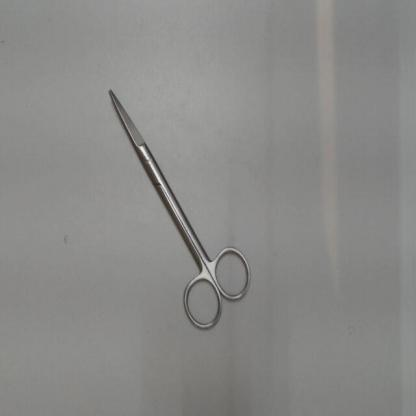Curved Mayo Scissors: (101, 80, 258, 341)
